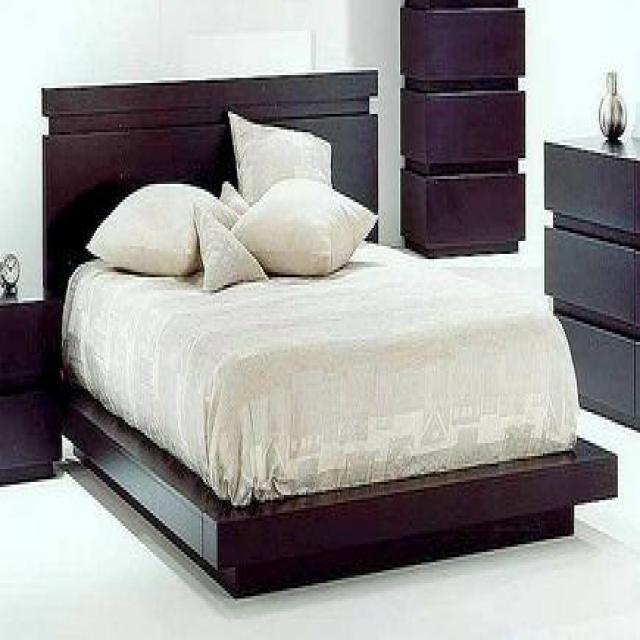bed: (40, 68, 616, 602)
